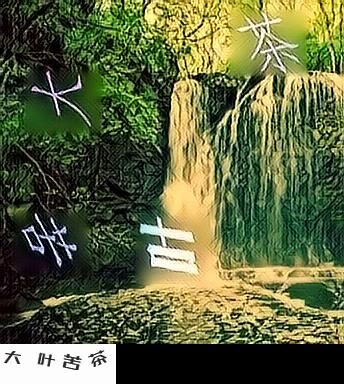character: (234, 11, 304, 78), (135, 212, 203, 279), (28, 66, 99, 130), (18, 210, 82, 272)
